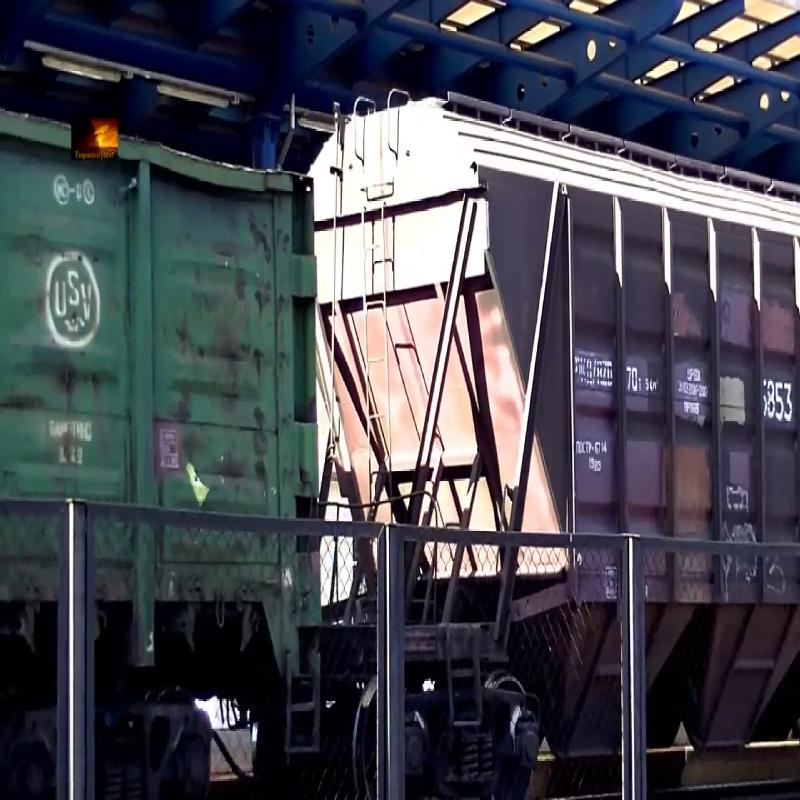train: (375, 4, 800, 752), (2, 13, 360, 758)
